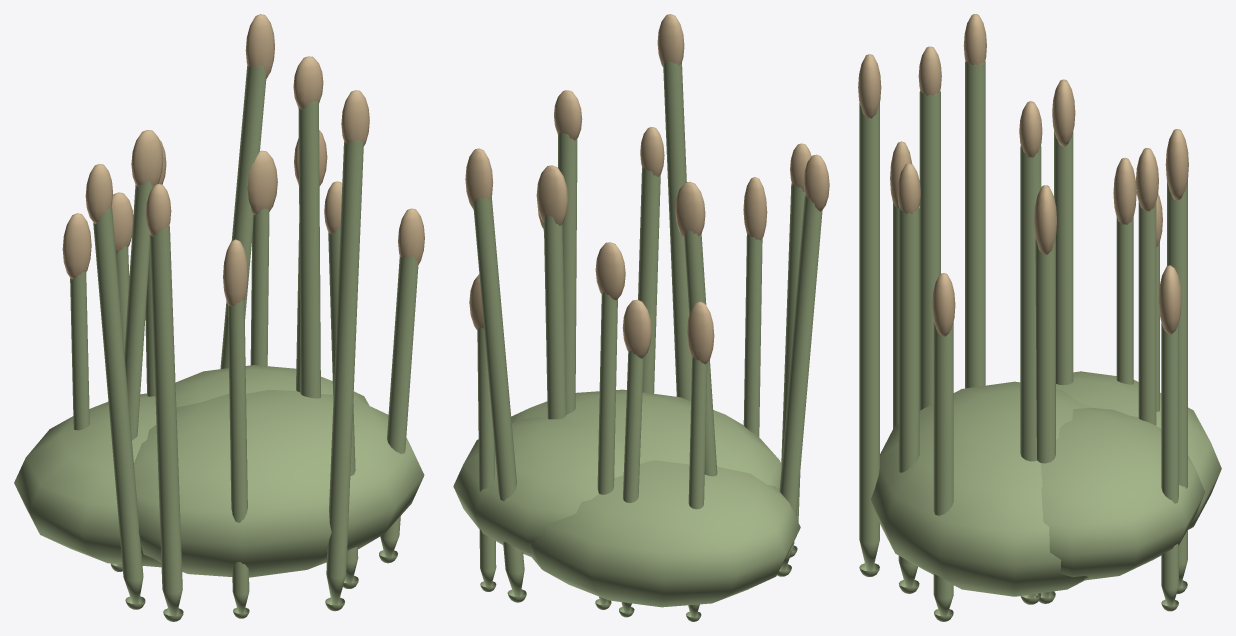
Rendered from reed-dense.glb.
3 renders of one model, left to right at view 1: azimuth 30°, elevation 25°; view 2: azimuth 150°, elevation 25°; view 3: azimuth 270°, elevation 25°, orthographic. The views are drawn at different scales.
Visible parts, largest first — view 1: stems, leaves, heads; view 2: stems, leaves, heads; view 3: stems, leaves, heads.
Part boxes in pixels (box(x1,y1,x2,y2)): stems: box(70, 66, 418, 621); leaves: box(14, 365, 424, 577); heads: box(62, 14, 424, 306); stems: box(473, 61, 822, 621); leaves: box(453, 389, 800, 607); heads: box(465, 14, 829, 364); stems: box(859, 60, 1187, 621); leaves: box(871, 371, 1221, 596); heads: box(858, 14, 1188, 336).
Bounding box in the file's own units: 0.5 × 0.7086 × 0.4389.
